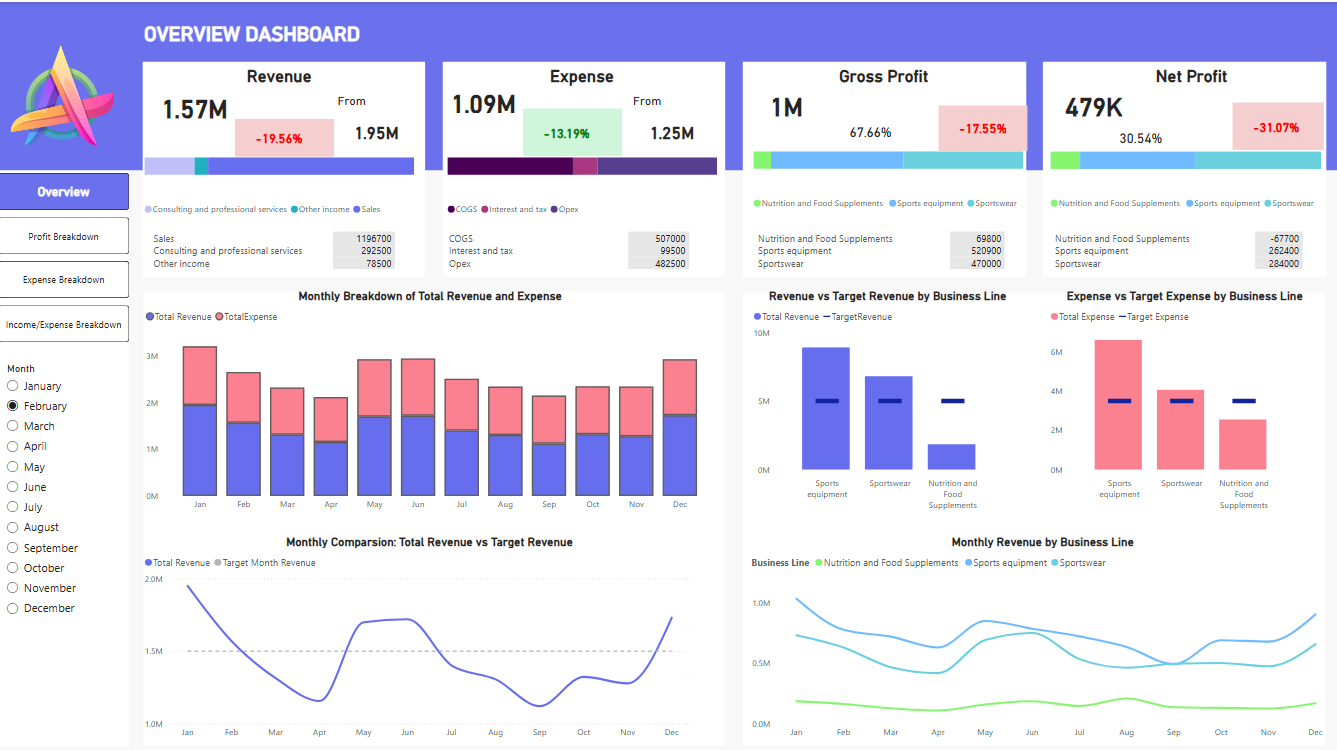

What the dashboard file says about the page in this screenshot:
{"tool":"powerbi","page":{"name":"Overview","canvas":[1920,1080],"ordinal":0},"visuals":[{"type":"cardVisual","fields":{"Data":["DAX.TotalRevenue"]},"box":[170.1,119.1,223.9,68],"z":0},{"type":"columnChart","title":"Monthly Breakdown of Total Revenue and Expense","fields":{"Y":["DAX.TotalRevenue","DAX.TotalExpense"],"Category":["Date Table.Short Month"]},"box":[207.6,410.4,825.5,326.9],"z":0,"group":"g1"},{"type":"cardVisual","fields":{"Data":["DAX.TotalExpense"]},"box":[600.9,113.4,187.1,62.4],"z":1000},{"type":"lineChart","title":"Monthly Comparsion: Total Revenue vs Target Revenue","fields":{"Category":["Date Table.Short Month"],"Y":["DAX.TotalRevenue"],"Y2":["DAX.Target Month Revenue"]},"box":[205.2,763.5,827.9,300.6],"z":1000,"group":"g1"},{"type":"slicer","fields":{"Values":["Date Table.Month"]},"box":[0,510.6,169.4,505.8],"z":2000},{"type":"lineChart","title":"Monthly Revenue by Business Line","fields":{"Category":["Date Table.Short Month"],"Y":["DAX.TotalRevenue"],"Series":["revenue_expense.Business Line"]},"box":[1076.1,763.5,844.6,300.6],"z":2000,"group":"g1"},{"type":"cardVisual","title":"From","fields":{"Data":["DAX.PrevMonthRev"]},"box":[481.9,130.4,187.1,90.7],"z":3000},{"type":"lineClusteredColumnComboChart","title":"Revenue vs Target Revenue by Business Line","fields":{"Y":["DAX.TotalRevenue"],"Category":["revenue_expense.Business Line"],"Y2":["DAX.TargetRevenue"]},"box":[1078,411,396,326],"z":3000,"group":"g1"},{"type":"cardVisual","fields":{"Data":["DAX.MoMRev%"]},"box":[340.2,167.2,141.7,53.9],"z":4000},{"type":"lineClusteredColumnComboChart","title":"Expense vs Target Expense by Business Line","fields":{"Y":["DAX.TotalExpense"],"Y2":["DAX.TargetExpense"],"Category":["revenue_expense.Business Line"]},"box":[1503,411,396,326],"z":4000,"group":"g1"},{"type":"hundredPercentStackedBarChart","fields":{"Y":["DAX.TotalRevenue"],"Series":["revenue_expense.Revenue / Expense Group"]},"box":[204.1,175.7,396.9,138.9],"z":5000},{"type":"textbox","box":[292,85,221.1,45.4],"z":6000},{"type":"cardVisual","title":"From","fields":{"Data":["DAX.PrevMonthExp"]},"box":[904.3,130.4,187.1,90.7],"z":7000},{"type":"cardVisual","fields":{"Data":["DAX.MoMExp%"]},"box":[751.2,153.1,141.7,68],"z":8000},{"type":"hundredPercentStackedBarChart","fields":{"Series":["revenue_expense.Revenue / Expense Group"],"Y":["DAX.TotalExpense"]},"box":[637.8,175.7,396.9,138.9],"z":9000},{"type":"pivotTable","fields":{"Rows":["revenue_expense.Revenue / Expense Group"],"Values":["DAX.TotalRevenue"]},"box":[212.3,295.9,396.1,97.8],"z":10000},{"type":"pivotTable","fields":{"Rows":["revenue_expense.Revenue / Expense Group"],"Values":["DAX.TotalExpense"]},"box":[637,295.9,398.4,114.5],"z":11000},{"type":"textbox","box":[637.8,85,396.9,45.4],"z":12000},{"type":"cardVisual","fields":{"Data":["DAX.Gross Profit"]},"box":[1034.9,102.4,187.6,93.8],"z":13000},{"type":"cardVisual","fields":{"Data":["DAX.Gross Profit Margin"]},"box":[1190.6,136.1,170.1,99.2],"z":14000},{"type":"cardVisual","fields":{"Data":["DAX.MoMGP%"]},"box":[1346.5,147.4,127.6,65.2],"z":15000},{"type":"hundredPercentStackedBarChart","fields":{"Y":["DAX.Gross Profit"],"Series":["revenue_expense.Business Line"]},"box":[1077.2,167.2,396.9,138.9],"z":16000},{"type":"textbox","box":[1128.7,85.3,281.5,59.7],"z":17000},{"type":"cardVisual","fields":{"Data":["DAX.Net Profit"]},"box":[1475.5,102.4,187.6,93.8],"z":18000},{"type":"cardVisual","fields":{"Data":["DAX.MoMNP%"]},"box":[1768.4,145,130.8,68.2],"z":19000},{"type":"cardVisual","fields":{"Data":["DAX.Net Profit Margin"]},"box":[1577.9,145,170.6,99.5],"z":20000},{"type":"hundredPercentStackedBarChart","fields":{"Series":["revenue_expense.Business Line"],"Y":["DAX.Net Profit"]},"box":[1501.1,167.7,398,139.3],"z":21000},{"type":"pivotTable","fields":{"Rows":["revenue_expense.Business Line"],"Values":["DAX.Net Profit"]},"box":[1503.1,295.9,396.1,114.5],"z":22000},{"type":"pivotTable","fields":{"Values":["DAX.Gross Profit"],"Rows":["revenue_expense.Business Line"]},"box":[1078.4,295.9,396.1,114.5],"z":23000},{"type":"textbox","box":[1500.7,85.9,419.9,66.8],"z":24000},{"type":"group","id":"g1","title":"Overview","box":[205.2,410.4,1715.5,653.7],"z":25000},{"type":"bookmarkNavigator","box":[0,250.5,169.4,221.9],"z":29000}]}

Visuals, with their boxes on the page's 1920x1080 design canvas (x1, y1, x2, y2). These are canvas units, not pixel positions in the 1337x750 screenshot, which may show the page scaled, cropped or inside an application window:
cardVisual - DAX.TotalRevenue: 170/119/394/187
"Monthly Breakdown of Total Revenue and Expense" columnChart: 208/410/1033/737
cardVisual - DAX.TotalExpense: 601/113/788/176
"Monthly Comparsion: Total Revenue vs Target Revenue" lineChart: 205/764/1033/1064
slicer - Date Table.Month: 0/511/169/1016
"Monthly Revenue by Business Line" lineChart: 1076/764/1921/1064
"From" cardVisual: 482/130/669/221
"Revenue vs Target Revenue by Business Line" lineClusteredColumnComboChart: 1078/411/1474/737
cardVisual - DAX.MoMRev%: 340/167/482/221
"Expense vs Target Expense by Business Line" lineClusteredColumnComboChart: 1503/411/1899/737
hundredPercentStackedBarChart - DAX.TotalRevenue x revenue_expense.Revenue / Expense Group: 204/176/601/315
textbox: 292/85/513/130
"From" cardVisual: 904/130/1091/221
cardVisual - DAX.MoMExp%: 751/153/893/221
hundredPercentStackedBarChart - revenue_expense.Revenue / Expense Group x DAX.TotalExpense: 638/176/1035/315
pivotTable - revenue_expense.Revenue / Expense Group x DAX.TotalRevenue: 212/296/608/394
pivotTable - revenue_expense.Revenue / Expense Group x DAX.TotalExpense: 637/296/1035/410
textbox: 638/85/1035/130
cardVisual - DAX.Gross Profit: 1035/102/1222/196
cardVisual - DAX.Gross Profit Margin: 1191/136/1361/235
cardVisual - DAX.MoMGP%: 1346/147/1474/213
hundredPercentStackedBarChart - DAX.Gross Profit x revenue_expense.Business Line: 1077/167/1474/306
textbox: 1129/85/1410/145
cardVisual - DAX.Net Profit: 1476/102/1663/196
cardVisual - DAX.MoMNP%: 1768/145/1899/213
cardVisual - DAX.Net Profit Margin: 1578/145/1748/244
hundredPercentStackedBarChart - revenue_expense.Business Line x DAX.Net Profit: 1501/168/1899/307
pivotTable - revenue_expense.Business Line x DAX.Net Profit: 1503/296/1899/410
pivotTable - DAX.Gross Profit x revenue_expense.Business Line: 1078/296/1474/410
textbox: 1501/86/1921/153
"Overview" group: 205/410/1921/1064
bookmarkNavigator: 0/250/169/472
